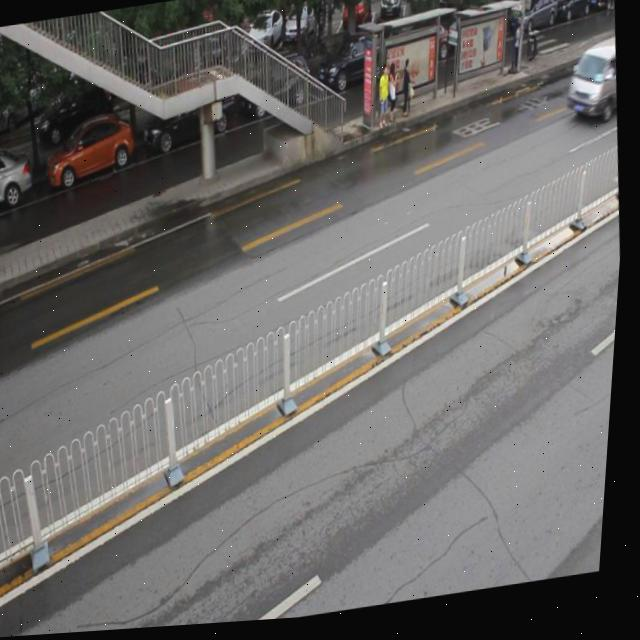car: (44, 111, 139, 192), (138, 82, 239, 157), (314, 28, 395, 100), (241, 55, 314, 122), (0, 147, 35, 215)
truck: (561, 43, 623, 134)
